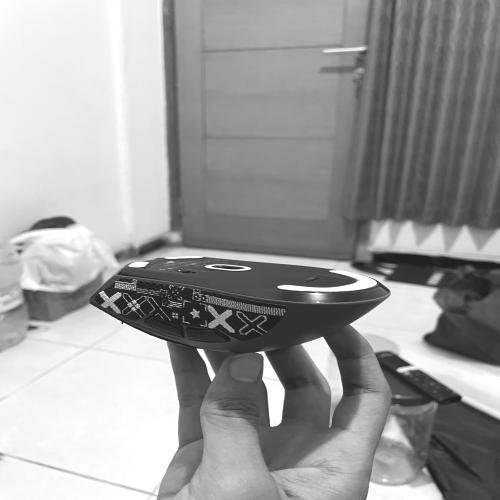Mouse: (73, 246, 400, 367)
